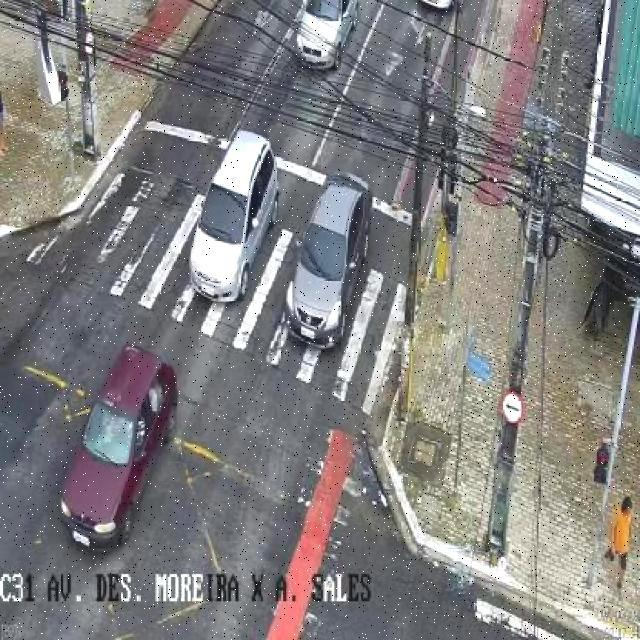Car: (61, 345, 179, 549), (192, 131, 279, 305), (288, 170, 371, 350), (300, 0, 362, 73)
